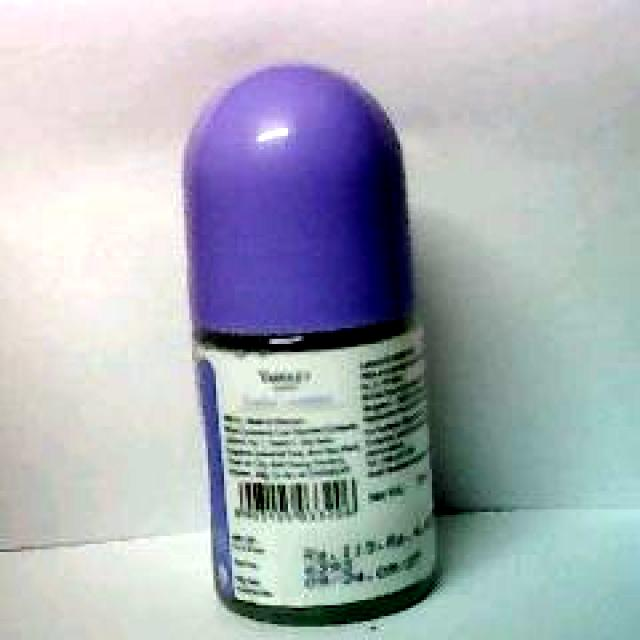yardley_rollon: (184, 64, 440, 629)
